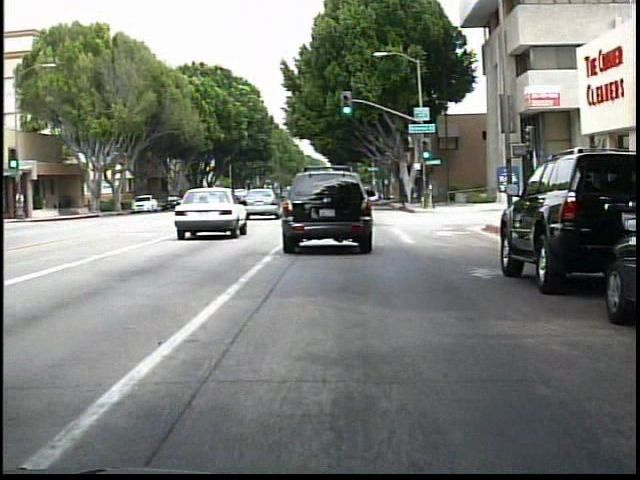person: (14, 187, 33, 218)
